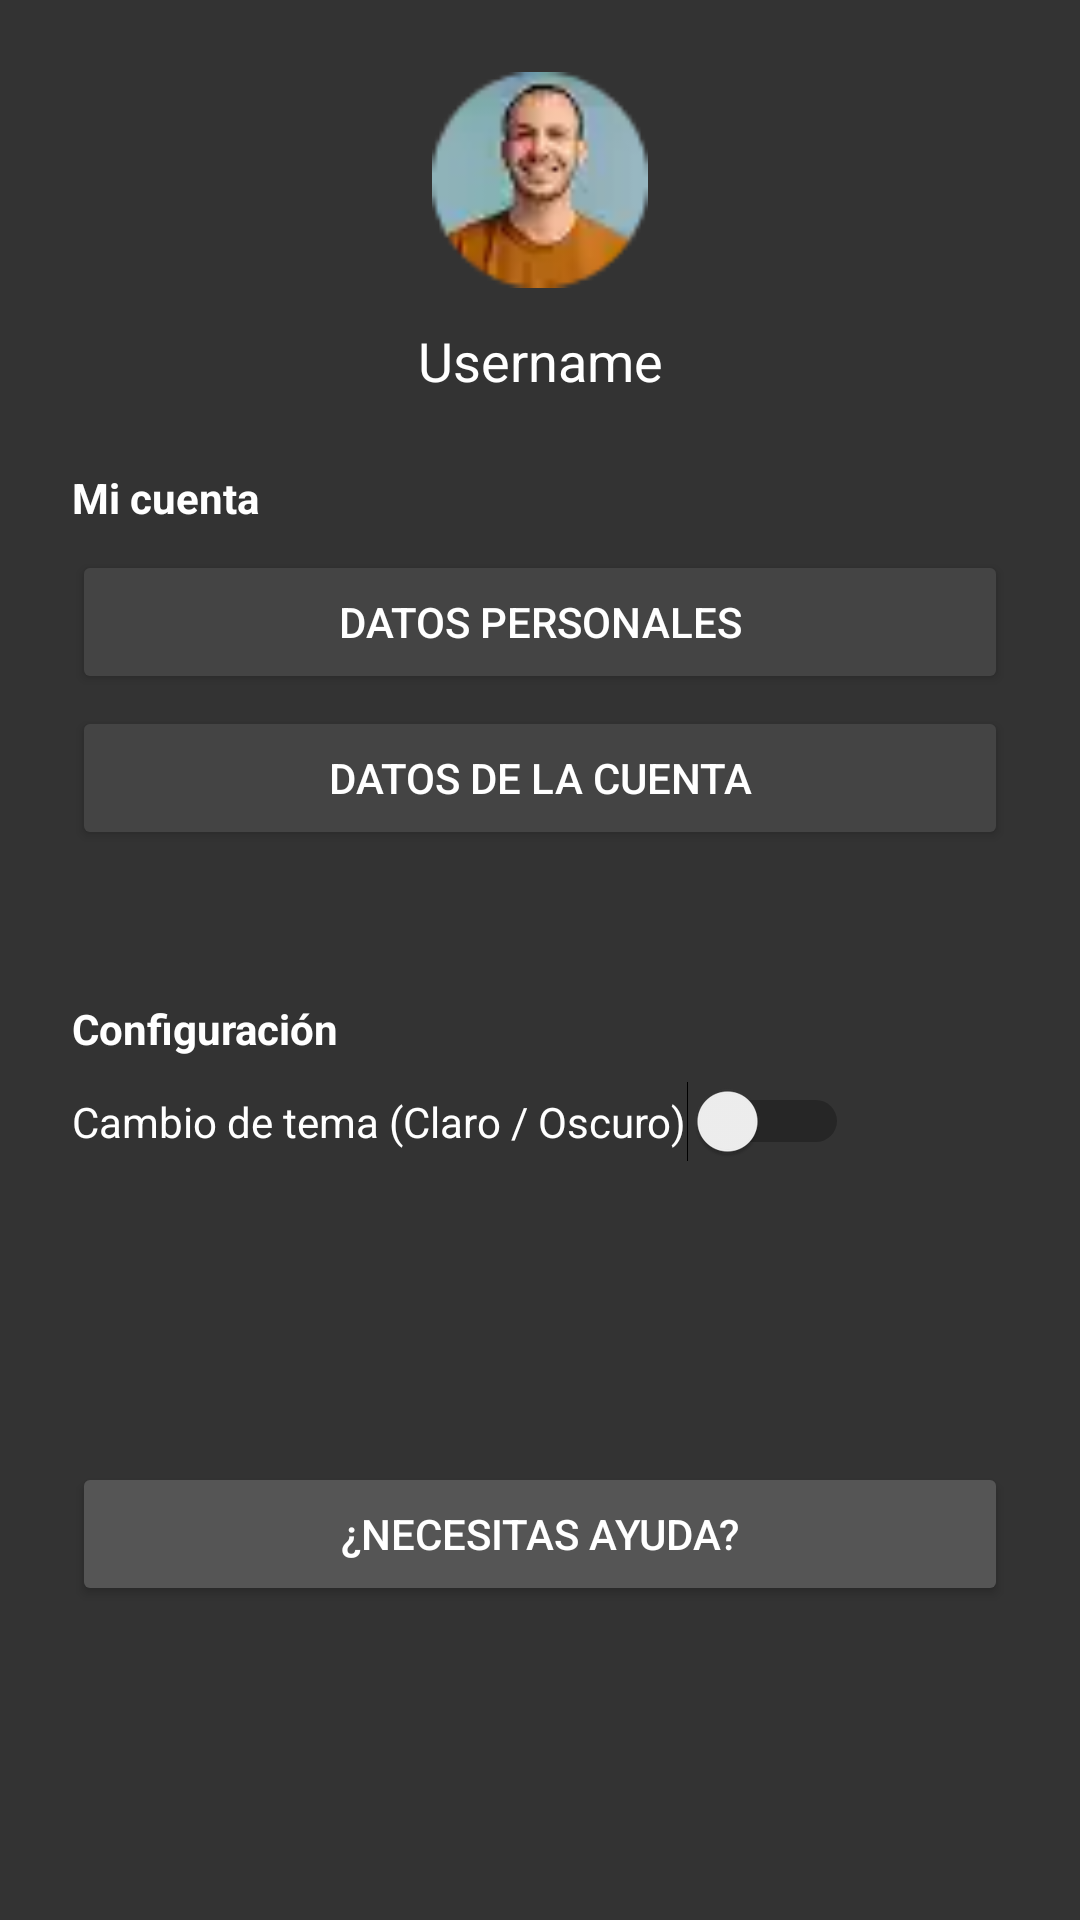

Screen size 1080px x 1920px. Icon name, then its center in pixels as (x=x, y=y):
user perfil: (x=540, y=180)
